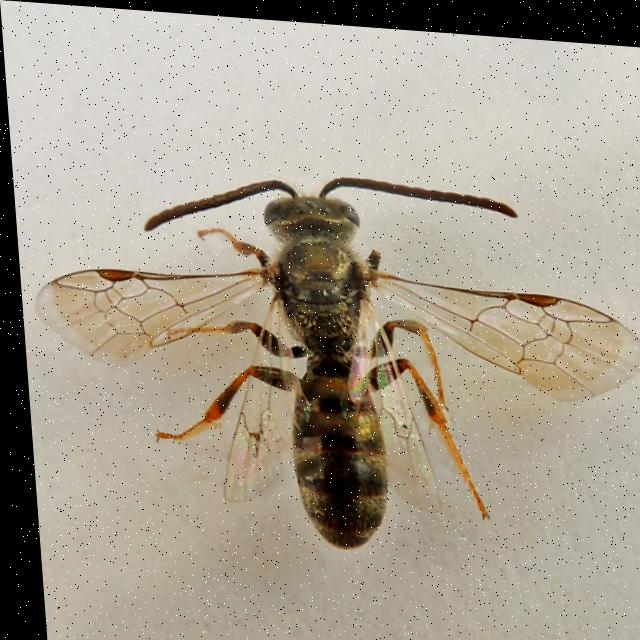Lasioglossum: (21, 111, 640, 578)
